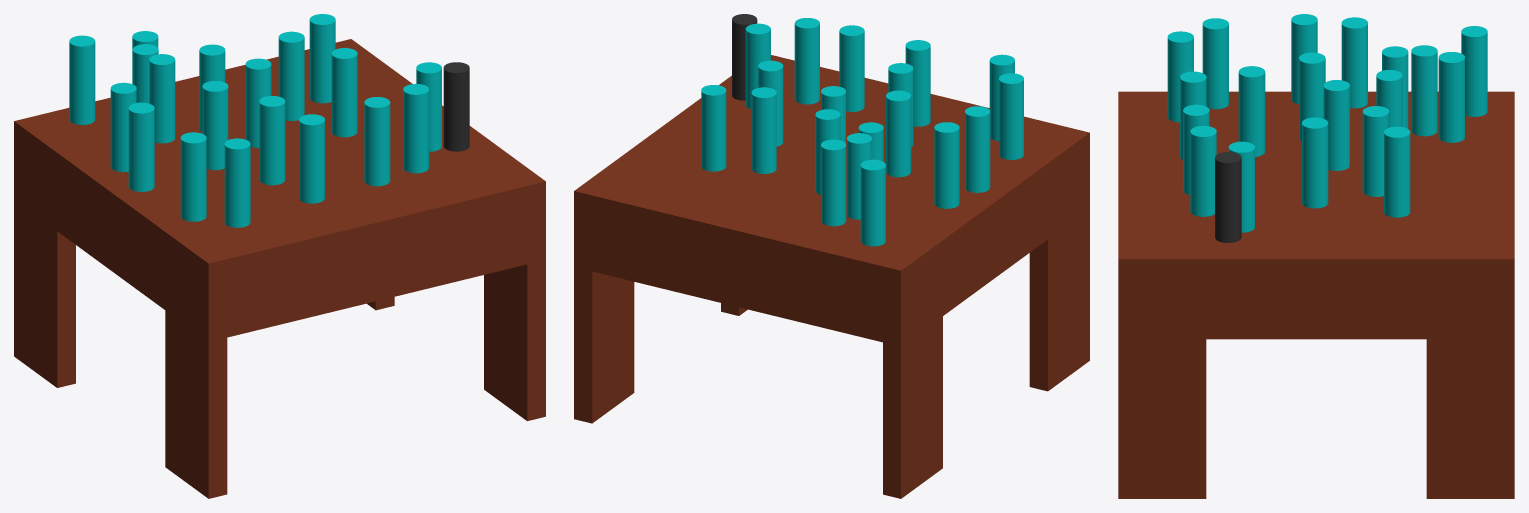
Rendered from can_world_20_cans.dae.
3 views of the same model, side by side, from view 1: azimuth 30°, elevation 25°; view 2: azimuth 150°, elevation 25°; view 3: azimuth 270°, elevation 25° (orthographic). The views are drawn at different scales.
Parts seen in each view (by area): view 1: base (×23); view 2: base (×24); view 3: base (×23).
Boxes of the visible parts, x1=… form: base (×23): x1=14, y1=14, x2=545, y2=498; base (×24): x1=574, y1=14, x2=1089, y2=498; base (×23): x1=1118, y1=14, x2=1514, y2=498.
Bounding box in the file's own units: 0.9 × 0.9 × 0.811.
